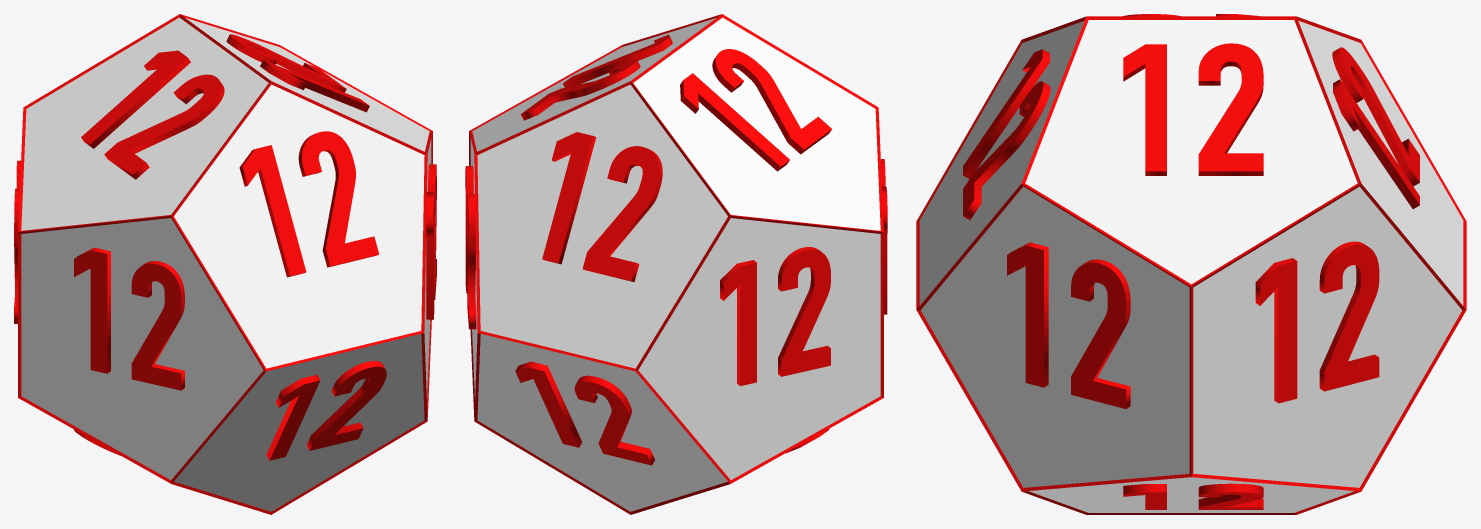
The model's file is dodecahedron_sign-12.glb.
The picture shows the model from 3 angles, left to right: view 1: azimuth 30°, elevation 25°; view 2: azimuth 150°, elevation 25°; view 3: azimuth 270°, elevation 25°; orthographic projection. The views are drawn at different scales.
Visible parts, largest first — view 1: Dodecahedron_Solid, Dodecahedron_Wire, Text20_5, Text20_11, Text20_7, Text20_10, Text20_2, Text20_6, Text20_8; view 2: Dodecahedron_Solid, Dodecahedron_Wire, Text20_0, Text20_8, Text20_7, Text20_3, Text20_2, Text20_1, Text20_11; view 3: Dodecahedron_Solid, Dodecahedron_Wire, Text20_1, Text20_6, Text20_2, Text20_0, Text20_5, Text20_4.
Boxes of the visible parts, x1=… form: Dodecahedron_Solid: x1=21, y1=17, x2=431, y2=511; Dodecahedron_Wire: x1=18, y1=14, x2=432, y2=514; Text20_5: x1=239, y1=131, x2=379, y2=277; Text20_11: x1=74, y1=247, x2=184, y2=390; Text20_7: x1=81, y1=50, x2=224, y2=179; Text20_10: x1=266, y1=361, x2=386, y2=460; Text20_2: x1=226, y1=34, x2=369, y2=112; Text20_6: x1=426, y1=164, x2=436, y2=319; Text20_8: x1=14, y1=160, x2=20, y2=323; Dodecahedron_Solid: x1=470, y1=17, x2=880, y2=511; Dodecahedron_Wire: x1=469, y1=14, x2=883, y2=514; Text20_0: x1=542, y1=132, x2=662, y2=282; Text20_8: x1=720, y1=247, x2=830, y2=385; Text20_7: x1=680, y1=49, x2=831, y2=171; Text20_3: x1=515, y1=361, x2=654, y2=465; Text20_2: x1=521, y1=34, x2=672, y2=120; Text20_1: x1=465, y1=166, x2=476, y2=329; Text20_11: x1=881, y1=159, x2=887, y2=314; Dodecahedron_Solid: x1=919, y1=20, x2=1463, y2=512; Dodecahedron_Wire: x1=916, y1=16, x2=1466, y2=514; Text20_1: x1=1255, y1=241, x2=1379, y2=403; Text20_6: x1=1007, y1=242, x2=1130, y2=408; Text20_2: x1=1123, y1=43, x2=1263, y2=175; Text20_0: x1=1332, y1=47, x2=1419, y2=208; Text20_5: x1=963, y1=49, x2=1050, y2=219; Text20_4: x1=1123, y1=483, x2=1263, y2=509.
Size of the model in its own units: 3.26 by 3.26 by 3.26.
